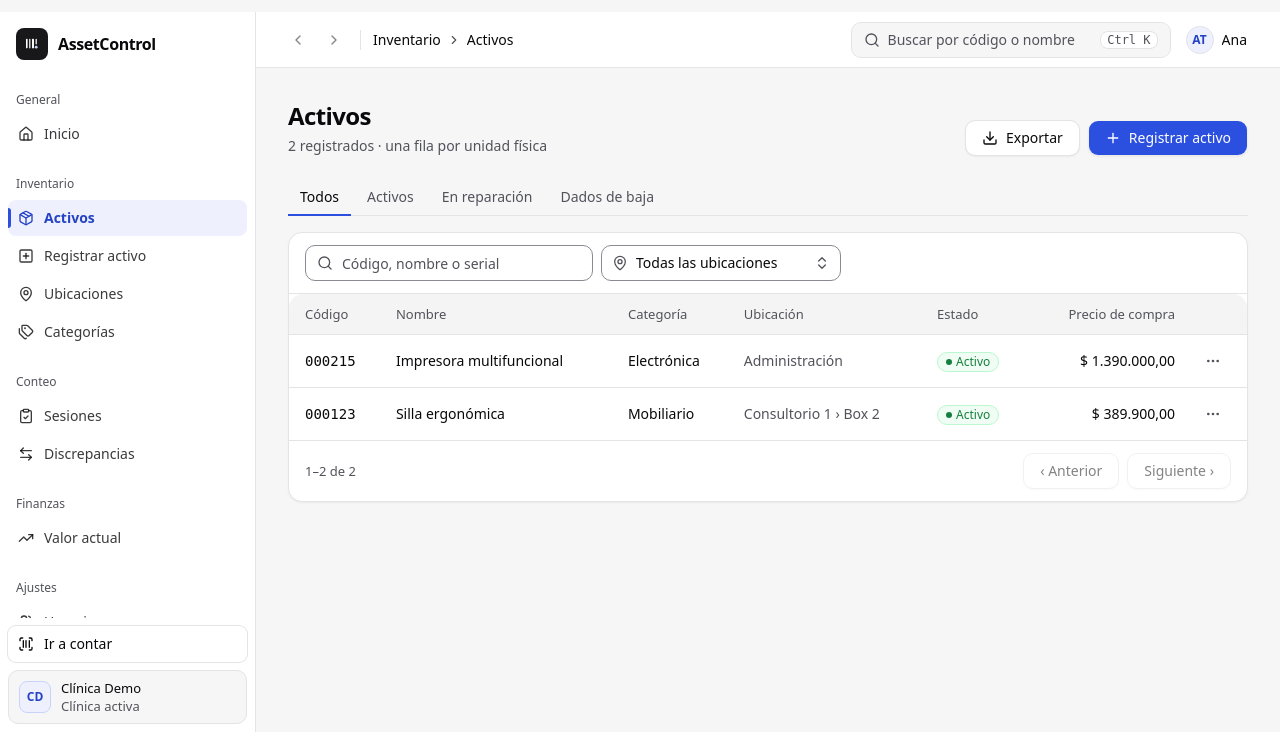
Scenario: /admin/activos › vacío invita a registrar; sin coincidencias ofrece limpiar
Later steps or results of the test are not shown.
Type "zzzz" into the search field named "Buscar activos" at (449,263), box [305,245,593,281]
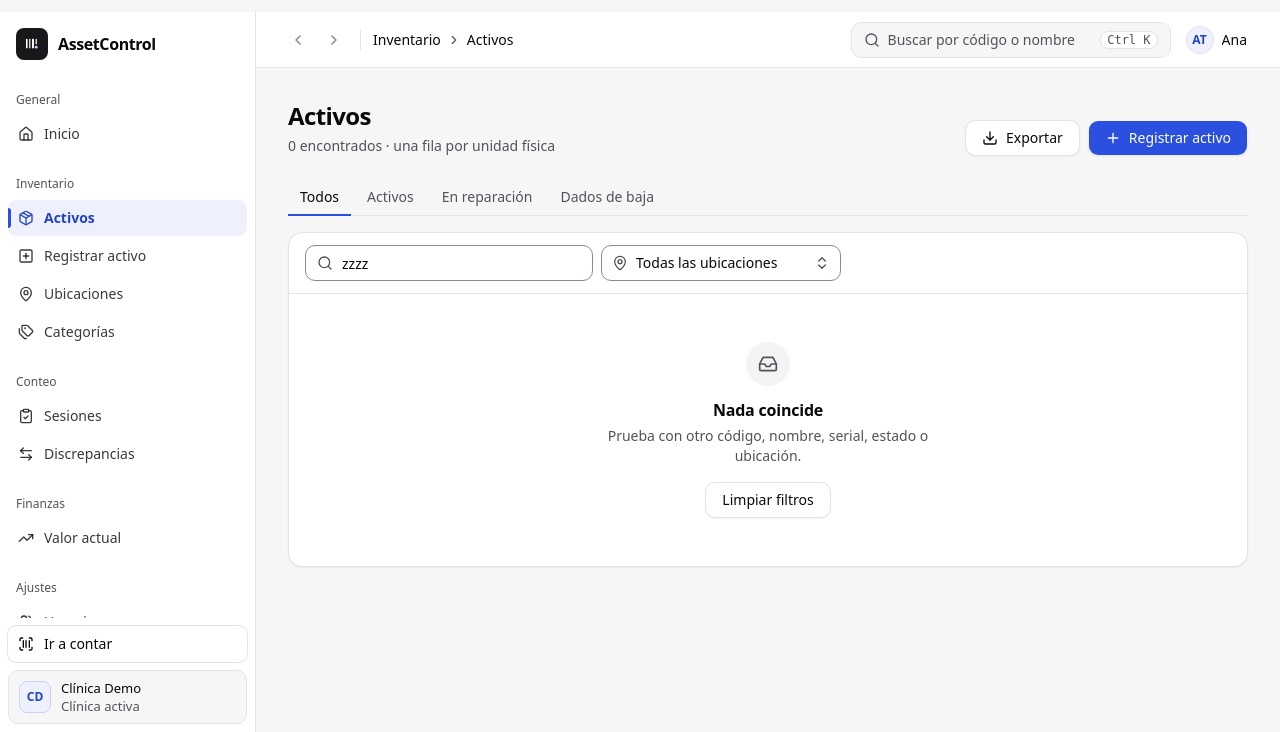
Expected: the text "Nada coincide" is shown, [713,399,823,421]
